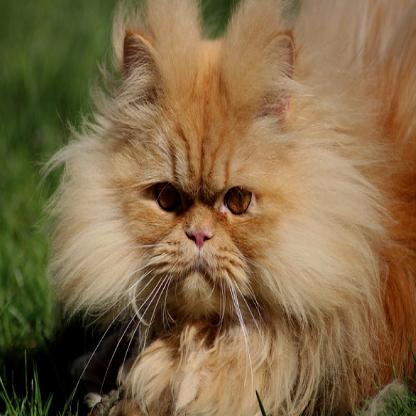cat: (44, 0, 416, 415)
